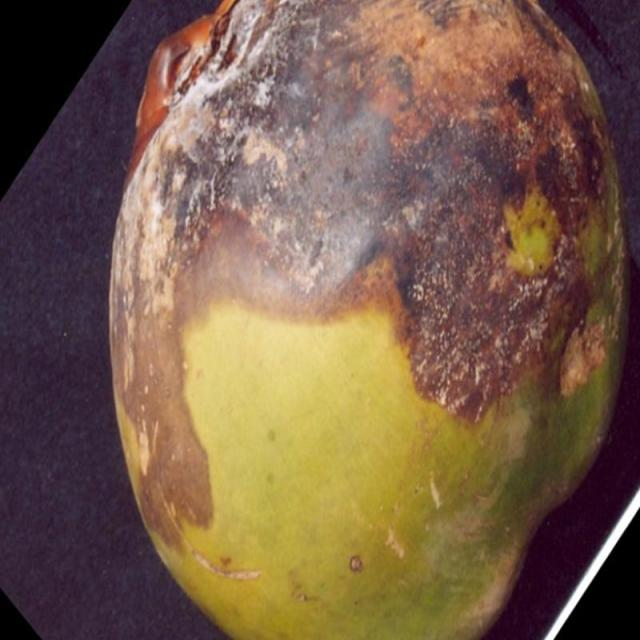damaged: (110, 0, 628, 639)
